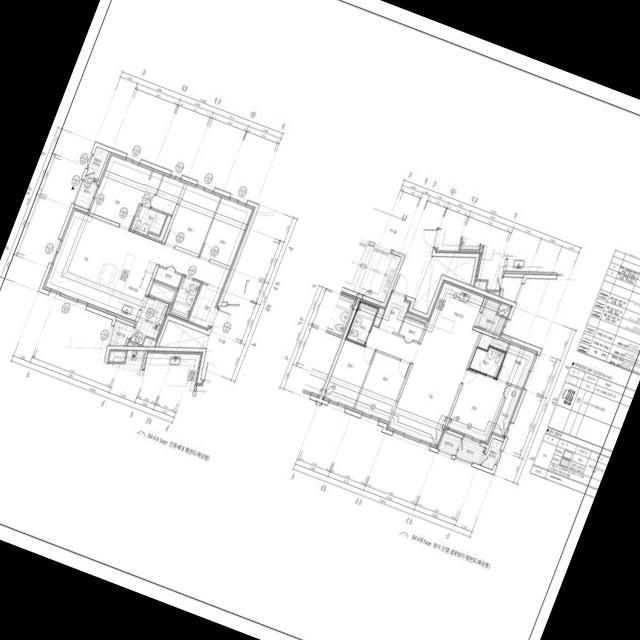space_balconi: (456, 439, 486, 465), (75, 177, 97, 210)
space_bedroom: (90, 156, 184, 228), (447, 370, 508, 442), (355, 352, 410, 422), (165, 185, 220, 254), (200, 198, 252, 266), (323, 340, 375, 408)
space_dressroom: (492, 386, 521, 436)
space_elevator: (354, 244, 401, 303)
space_elevator_hall: (159, 205, 282, 377), (362, 209, 476, 314)
space_front: (188, 284, 221, 328), (379, 292, 409, 334)
space_kitchen: (427, 283, 484, 346), (106, 253, 157, 321)
space_living_room: (365, 326, 475, 446), (45, 210, 135, 310)
space_multipurpose_space: (130, 296, 169, 345), (476, 299, 506, 336)
space_other: (128, 234, 229, 289), (497, 345, 535, 388), (86, 147, 109, 180), (482, 439, 503, 470), (399, 317, 425, 342), (148, 282, 177, 303), (148, 216, 171, 242), (154, 267, 182, 288), (478, 334, 509, 351), (373, 308, 384, 326), (498, 304, 510, 317), (143, 338, 156, 347), (128, 342, 140, 347)
space_outdoor_room: (111, 320, 134, 346), (438, 432, 461, 455)
space_toilet: (347, 303, 378, 345), (170, 277, 201, 319), (469, 347, 505, 378), (131, 206, 166, 236)
